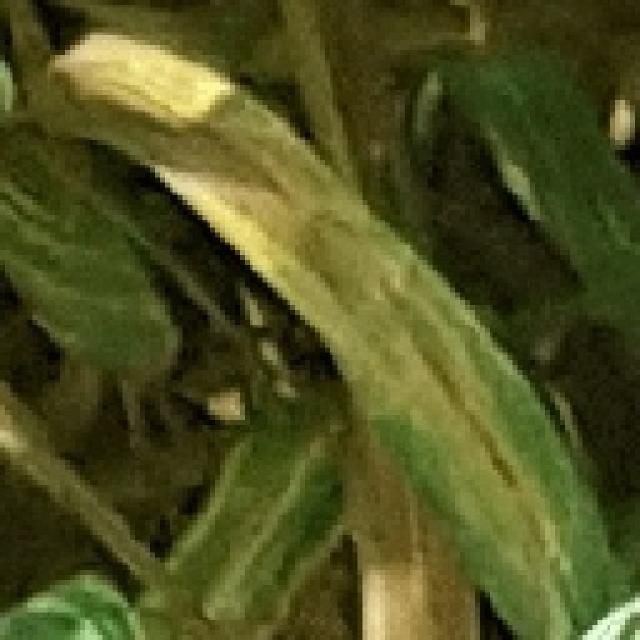Healthy Wheat: (2, 5, 632, 635)
